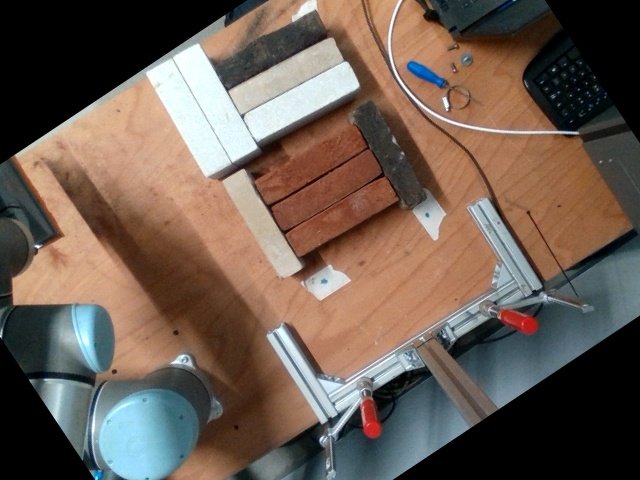brick-side: (145, 58, 232, 177), (171, 42, 257, 161), (241, 60, 360, 141), (228, 36, 344, 116), (285, 176, 397, 256), (269, 149, 381, 229), (254, 123, 366, 203), (214, 12, 327, 89), (222, 169, 301, 279), (348, 99, 427, 209)
